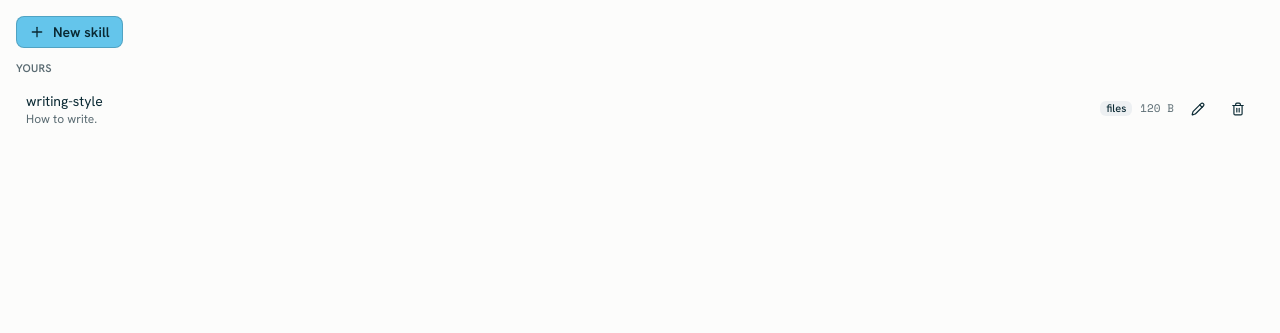
Scenario: the files inside a skill › do not stop the skill being read when the listing fails
What coordinates should you click on to do the following:
click the button "writing-style How to write."
I would click on:
 (64, 100)
Its box is [26,90,1092,126].
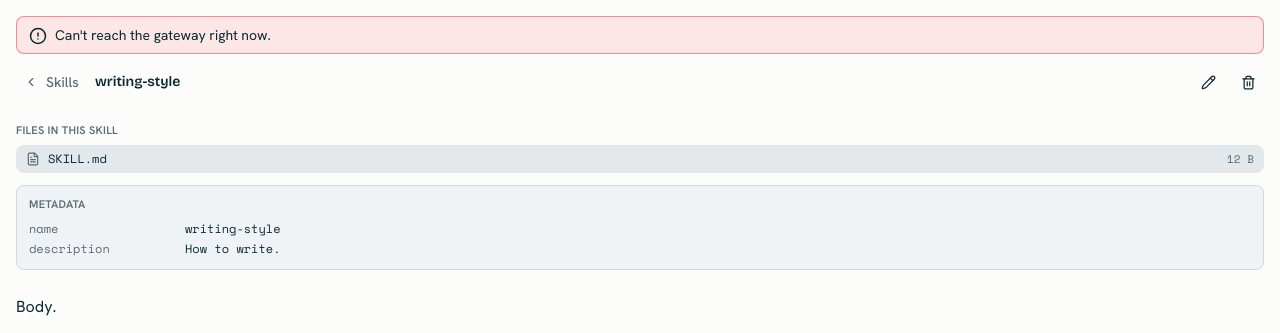
Expected: the text "Body." is shown, [16,296,56,316]
